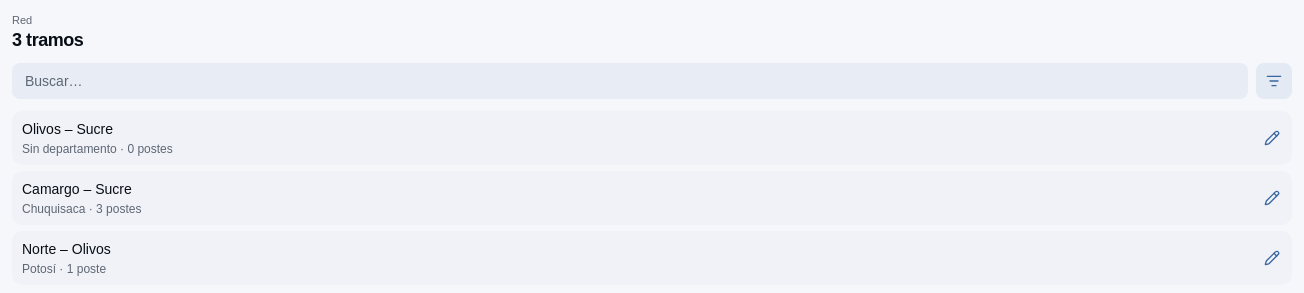
Test: the list › says so when nothing matches the name
This screenshot has width=1304, height=293.
Type "zzz" into the field named "Buscar por nombre" at x=630, y=81, box [12,63,1248,99]
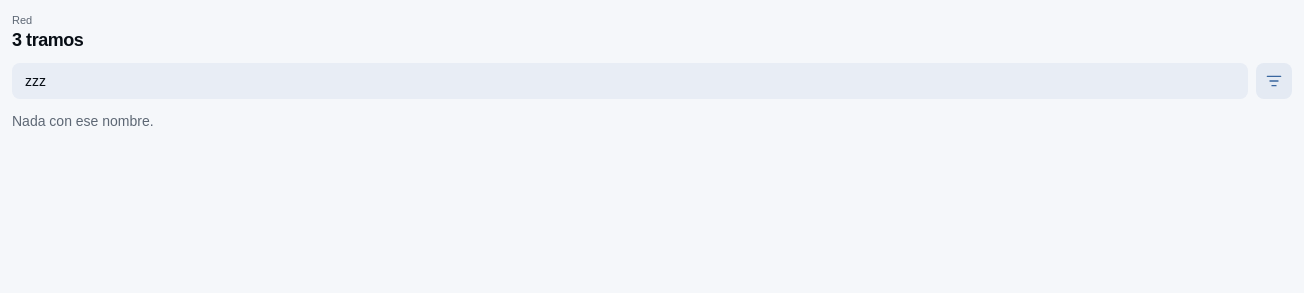
Expected: the text "Nada con ese nombre." is shown, [12,113,154,129]
